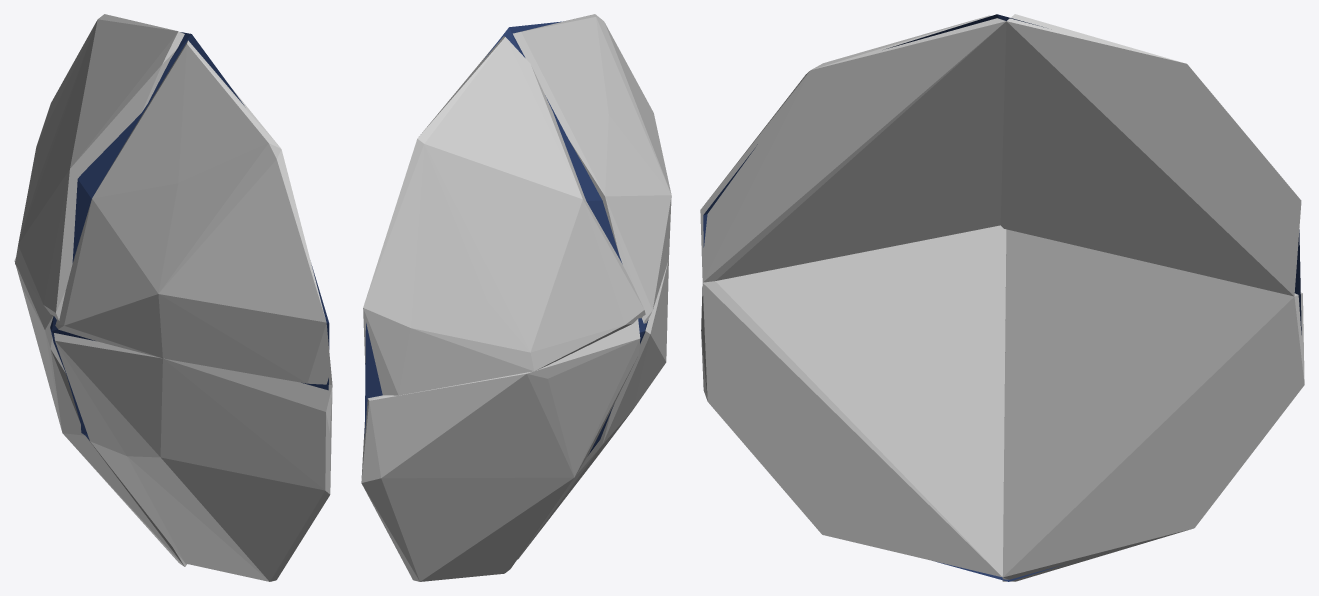
File: SM_Prop_Telescope_01_scopeGlass_02.fbx
3 renders of one model, left to right at view 1: azimuth 30°, elevation 25°; view 2: azimuth 150°, elevation 25°; view 3: azimuth 270°, elevation 25°, orthographic. The views are drawn at different scales.
Parts seen in each view (by area): view 1: SM_Prop_Telescope_01_scopeGlass_02_ConvexHulls, SM_Prop_Telescope_01_scopeGlass_02; view 2: SM_Prop_Telescope_01_scopeGlass_02_ConvexHulls, SM_Prop_Telescope_01_scopeGlass_02; view 3: SM_Prop_Telescope_01_scopeGlass_02_ConvexHulls, SM_Prop_Telescope_01_scopeGlass_02.
Part boxes in pixels (<box>): SM_Prop_Telescope_01_scopeGlass_02_ConvexHulls: <box>14,14,332,581</box>; SM_Prop_Telescope_01_scopeGlass_02: <box>50,32,329,440</box>; SM_Prop_Telescope_01_scopeGlass_02_ConvexHulls: <box>361,14,671,581</box>; SM_Prop_Telescope_01_scopeGlass_02: <box>364,21,648,455</box>; SM_Prop_Telescope_01_scopeGlass_02_ConvexHulls: <box>700,14,1304,581</box>; SM_Prop_Telescope_01_scopeGlass_02: <box>703,14,1301,581</box>.
Bounding box in the file's own units: 6.28 × 21.8 × 22.68.
Materials: 2 (1 with a texture image).
